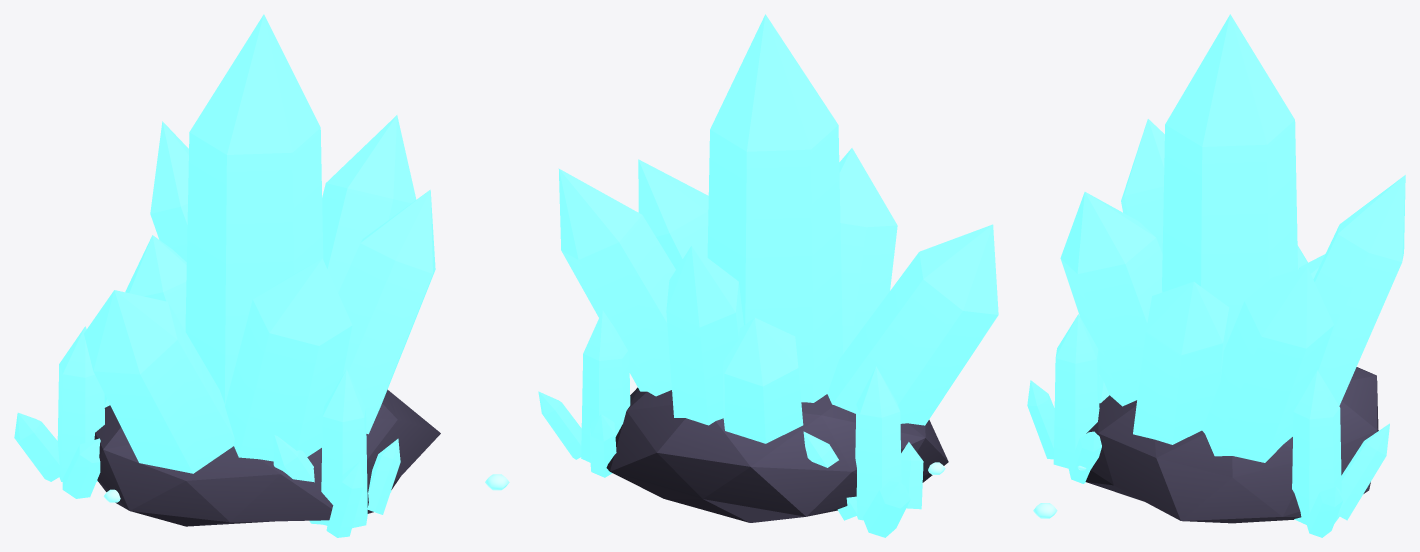
Rendered from crystals_teal.glb.
3 renders of one model, left to right at view 1: azimuth 30°, elevation 25°; view 2: azimuth 150°, elevation 25°; view 3: azimuth 270°, elevation 25°, orthographic. The views are drawn at different scales.
Visible parts, largest first — view 1: t0_crystal_teal, t0_rock; view 2: t0_crystal_teal, t0_rock; view 3: t0_crystal_teal, t0_rock.
Boxes of the visible parts, box(x1,y1,x2,y2) form: t0_crystal_teal: box(14, 14, 435, 537); t0_rock: box(94, 389, 440, 526); t0_crystal_teal: box(538, 14, 998, 537); t0_rock: box(606, 387, 948, 522); t0_crystal_teal: box(1027, 14, 1405, 537); t0_rock: box(1085, 367, 1378, 523).
Size of the model in its own units: 1.85 by 2.15 by 1.6.
